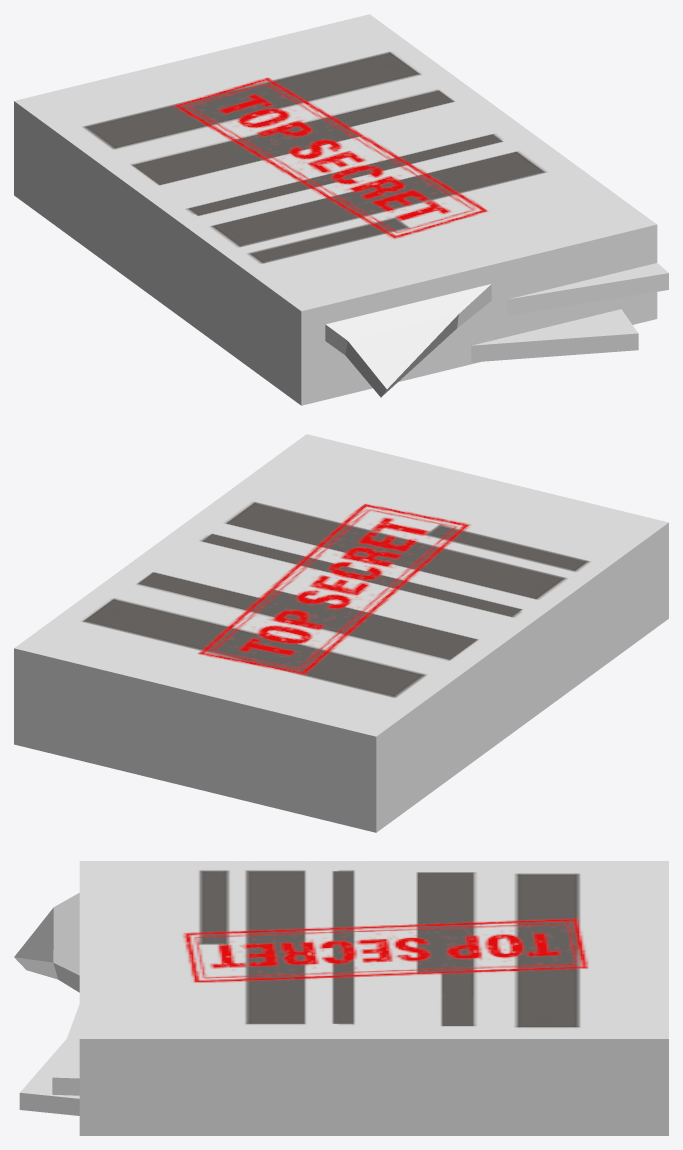
Rendered from StoreConfidential_ALL_DocsDrawerAnim_v8.gltf.
3 renders of one model, top to bottom at view 1: azimuth 30°, elevation 25°; view 2: azimuth 150°, elevation 25°; view 3: azimuth 270°, elevation 25°, orthographic. The views are drawn at different scales.
Visible parts, largest first — view 1: SC_docsDrawer_anim; view 2: SC_docsDrawer_anim; view 3: SC_docsDrawer_anim.
Boxes of the visible parts, <box> form: SC_docsDrawer_anim: <box>14,14,668,405</box>; SC_docsDrawer_anim: <box>14,434,668,832</box>; SC_docsDrawer_anim: <box>14,861,668,1135</box>.
Size of the model in its own units: 0.6383 by 0.1618 by 0.9922.
1 material, 1 textured.
